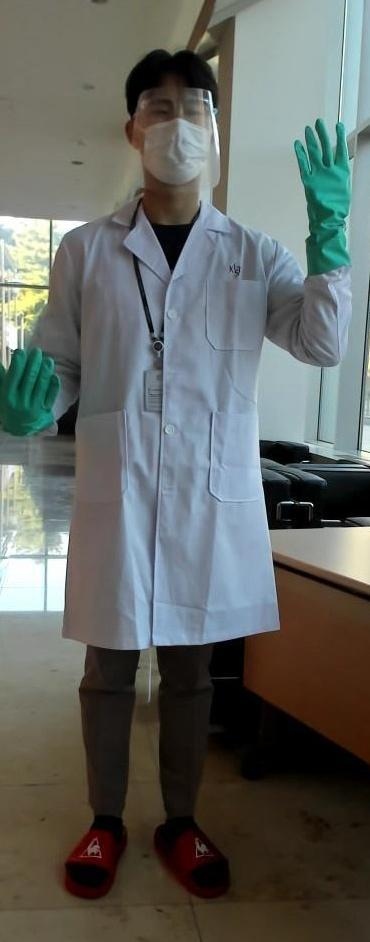lab_coat: (62, 242, 286, 626)
